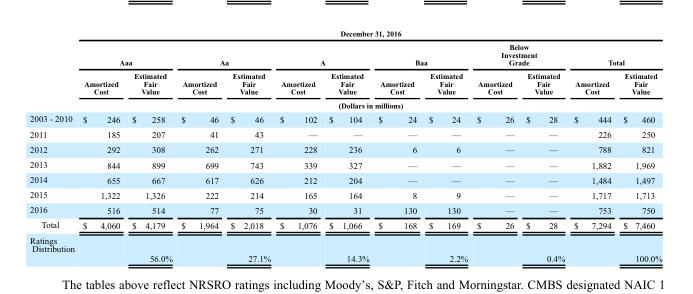table: (29, 28, 661, 263)
table column: (125, 28, 176, 263), (223, 28, 274, 263), (322, 28, 373, 263), (29, 28, 78, 263), (373, 28, 422, 263), (422, 28, 471, 263), (519, 28, 568, 263), (274, 28, 322, 263), (471, 28, 519, 263), (568, 28, 616, 263), (78, 28, 125, 263), (176, 28, 223, 263), (616, 28, 661, 263)
table column header: (29, 28, 661, 111)
table row: (29, 232, 661, 263), (29, 39, 661, 68), (29, 68, 661, 97), (29, 186, 661, 202), (29, 111, 661, 126), (29, 126, 661, 141), (29, 141, 661, 156), (29, 156, 661, 171), (29, 171, 661, 186), (29, 202, 661, 217), (29, 217, 661, 232), (29, 97, 661, 111), (29, 28, 661, 39)
table spanning cell: (78, 97, 661, 111), (78, 28, 661, 39), (274, 39, 373, 68), (78, 39, 176, 68), (176, 39, 274, 68), (373, 39, 471, 68), (471, 39, 568, 68), (568, 39, 661, 68)
